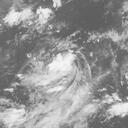cyclone: (49, 51, 77, 86)
